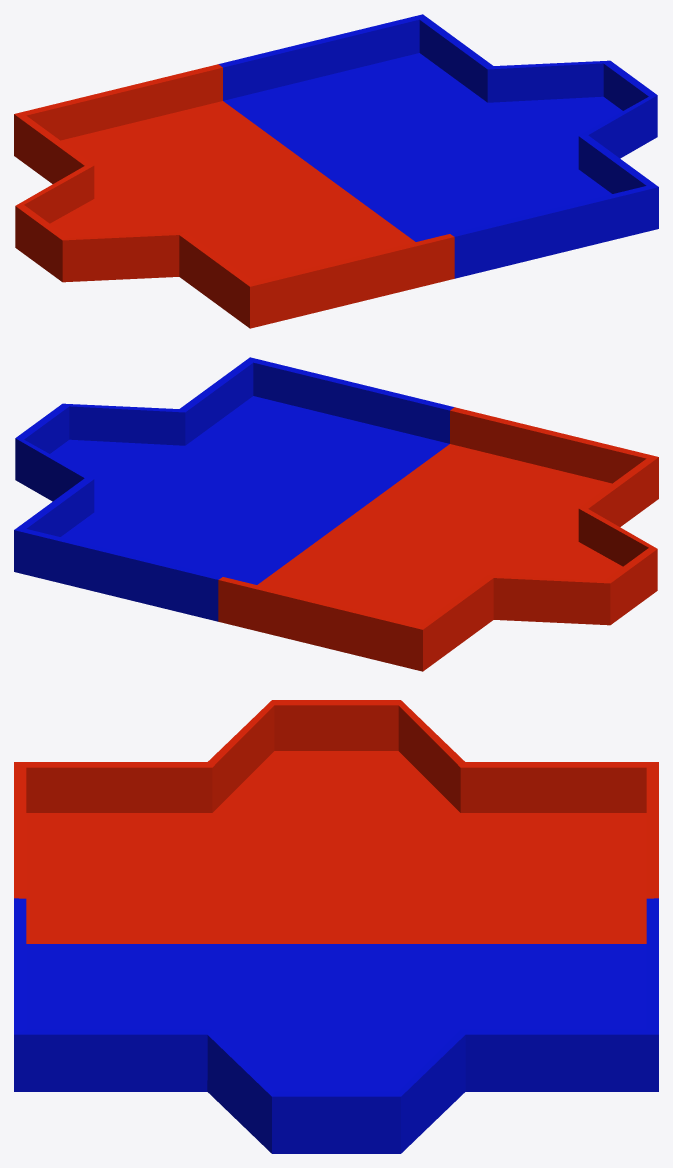
Rendered from Play Field.fbx.
3 renders of one model, top to bottom at view 1: azimuth 30°, elevation 25°; view 2: azimuth 150°, elevation 25°; view 3: azimuth 270°, elevation 25°, orthographic. The views are drawn at different scales.
Visible parts, largest first — view 1: Field; view 2: Field; view 3: Field.
Boxes of the visible parts, box(x1,y1,x2,y2) form: Field: box(14, 14, 658, 328); Field: box(14, 357, 658, 671); Field: box(14, 700, 658, 1153).
Bounding box in the file's own units: 2423 × 163 × 1664.
